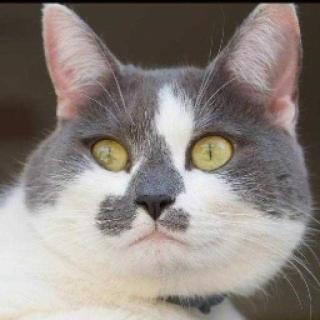cat: (30, 0, 311, 290)
nose: (131, 186, 183, 229)
